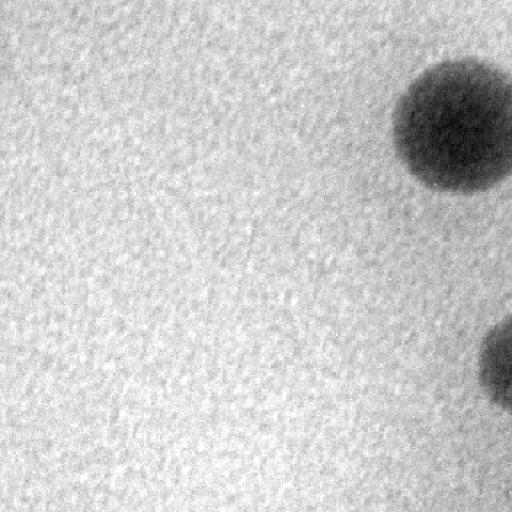Nanoparticles: (392, 56, 512, 192), (480, 307, 512, 412)
